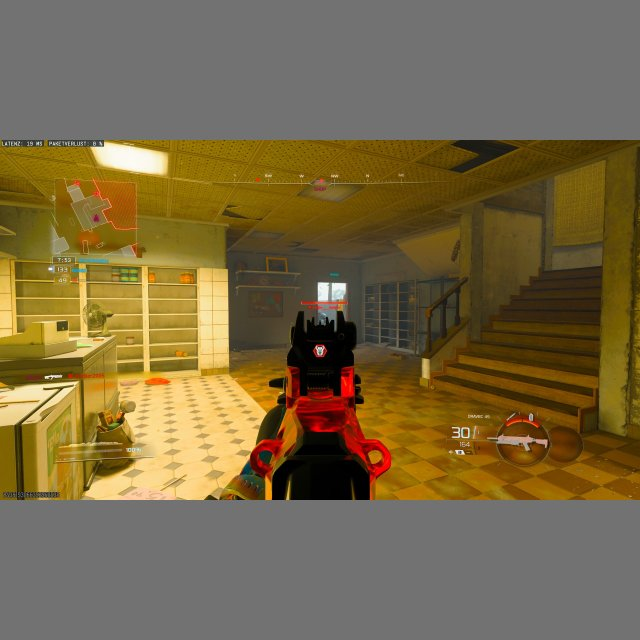player: (83, 301, 113, 336)
